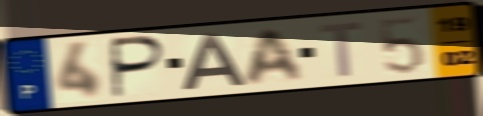4: (53, 38, 106, 103)
5: (377, 14, 429, 75)
A: (179, 31, 249, 92), (243, 26, 308, 87)
P: (110, 34, 169, 101)
T: (316, 20, 365, 79)
